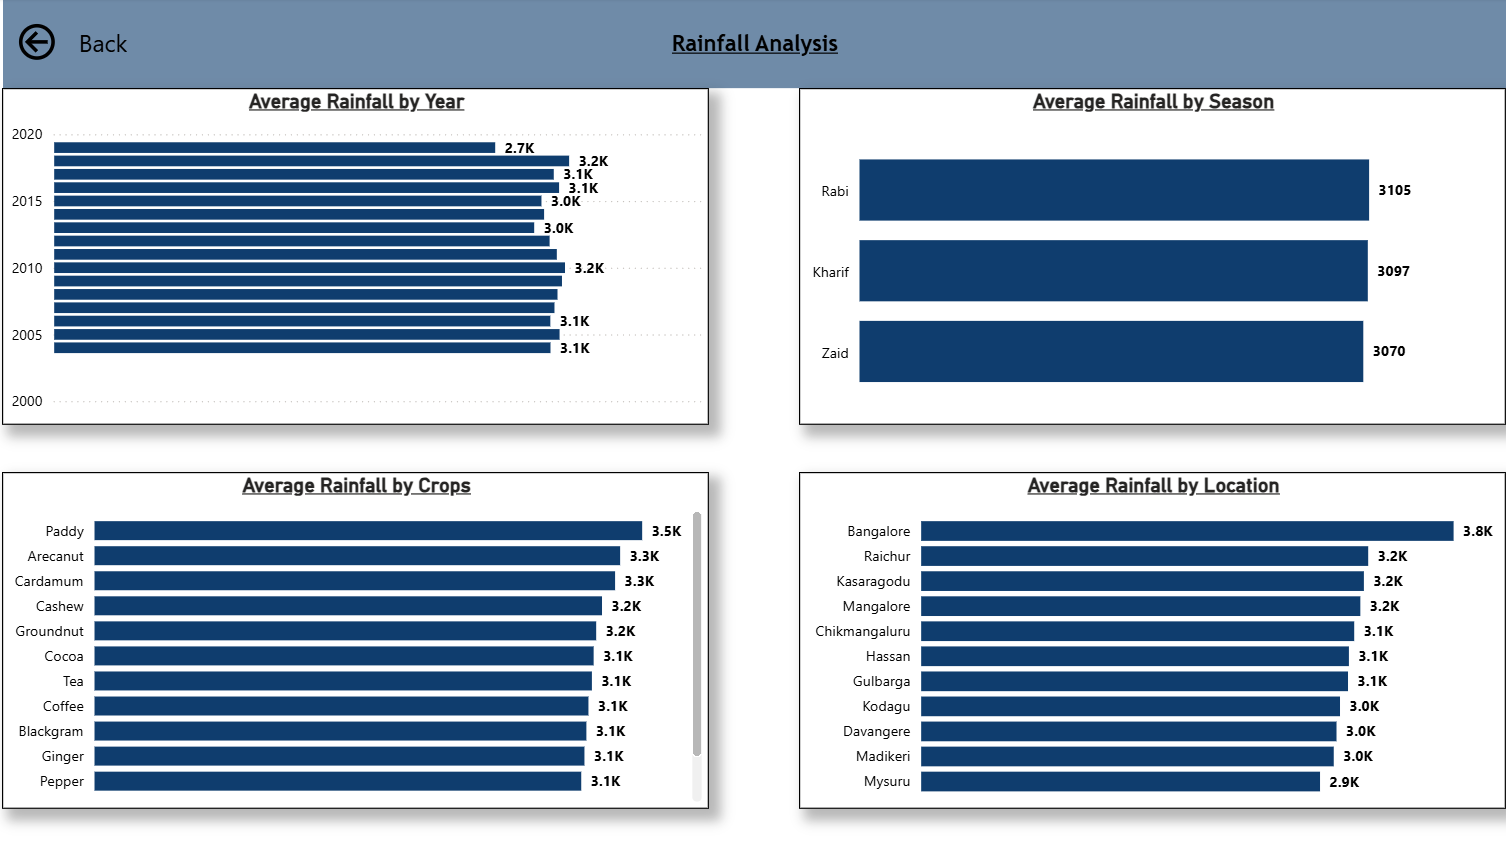

The page's visual inventory and layout, read from the dashboard file:
{"tool":"powerbi","page":{"name":"Rainfall Analysis","canvas":[1280,720],"ordinal":0},"visuals":[{"type":"shape","box":[12.3,0,1267.7,76],"z":0},{"type":"barChart","title":"Average Rainfall by Year","fields":{"Y":["Avg(AGRICULTURE.RAINFALL)"],"Category":["AGRICULTURE.YEAR"]},"box":[12,76,596,284],"z":1000},{"type":"barChart","title":"Average Rainfall by Season","fields":{"Y":["Avg(AGRICULTURE.RAINFALL)"],"Category":["AGRICULTURE.SEASON"]},"box":[684,76,596,284],"z":2000},{"type":"barChart","title":"Average Rainfall by Location","fields":{"Y":["Avg(AGRICULTURE.RAINFALL)"],"Category":["AGRICULTURE.LOCATION"]},"box":[684,400,596,284],"z":3000},{"type":"barChart","title":"Average Rainfall by Crops","fields":{"Y":["Avg(AGRICULTURE.RAINFALL)"],"Category":["AGRICULTURE.CROPS"]},"box":[12,400,596,284],"z":4000}]}

Visuals, with their boxes in screenshot pixels (x1, y1, x2, y2), scaled from the page's 1280x720 canvas onto the 1506x849 screenshot:
shape: locate(14, 0, 1505, 90)
"Average Rainfall by Year" barChart: locate(14, 90, 715, 424)
"Average Rainfall by Season" barChart: locate(805, 90, 1505, 424)
"Average Rainfall by Location" barChart: locate(805, 472, 1505, 807)
"Average Rainfall by Crops" barChart: locate(14, 472, 715, 807)
